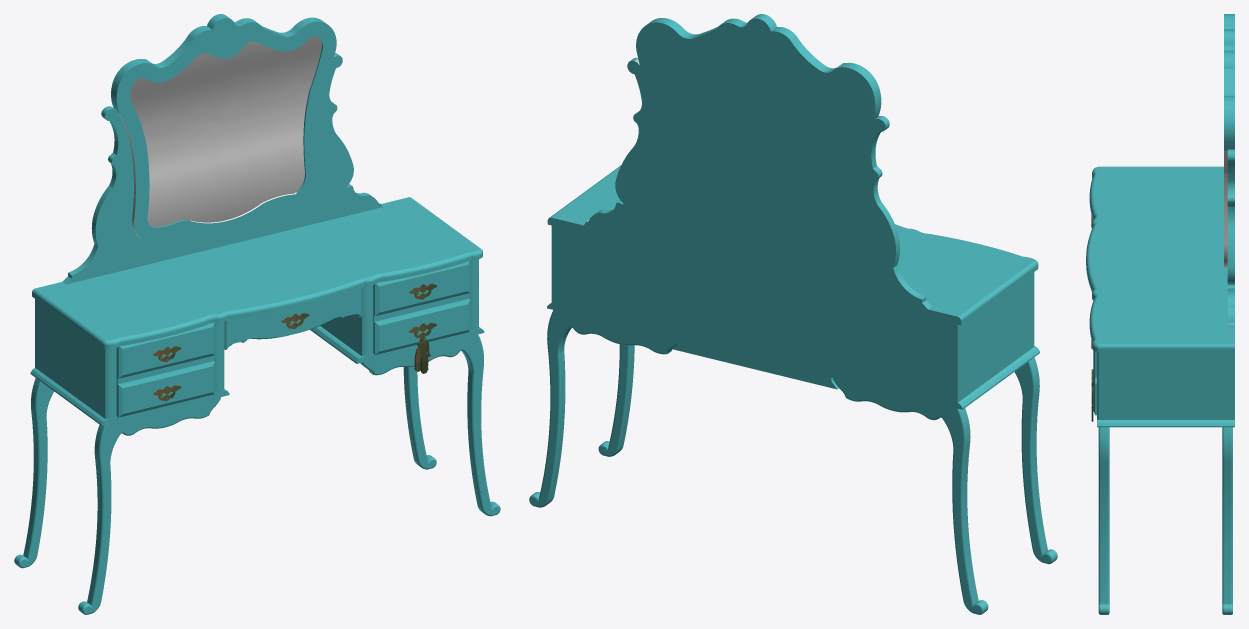
Rendered from penteadeira.glb.
3 renders of one model, left to right at view 1: azimuth 30°, elevation 25°; view 2: azimuth 150°, elevation 25°; view 3: azimuth 270°, elevation 25°, orthographic. The views are drawn at different scales.
Visible parts, largest first — view 1: root; view 2: root; view 3: root.
Part boxes in pixels (box(x1,y1,x2,y2)): root: box(14, 14, 500, 614); root: box(529, 14, 1057, 614); root: box(1086, 14, 1234, 614).
Size of the model in its own units: 1.29 by 1.47 by 0.4097.
Materials: 4 (3 with a texture image).
